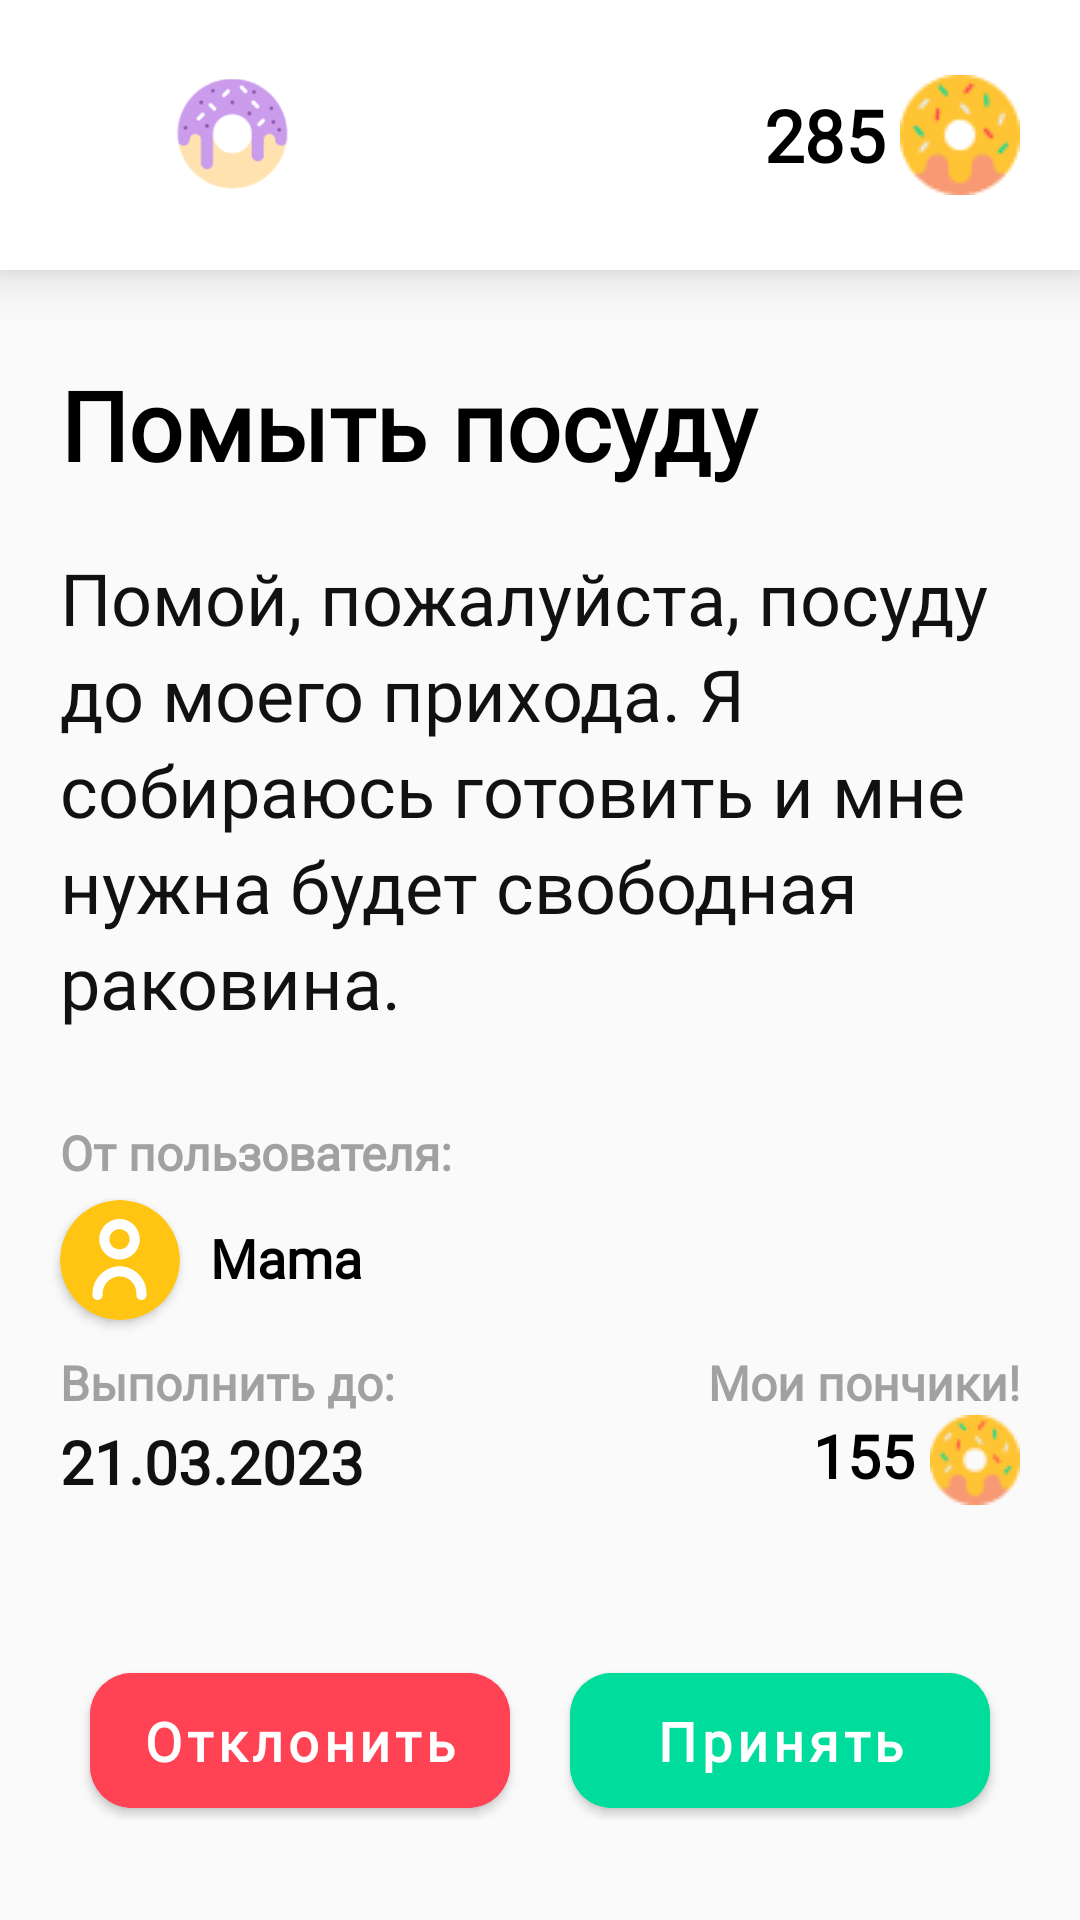

Icon bounding boxes for this 1080*1920 phone screenshot, format (x1, y1, x2, y2):
ava: (92, 1219, 147, 1300)
donut: (900, 75, 1020, 195)
little donut: (930, 1415, 1020, 1505)
